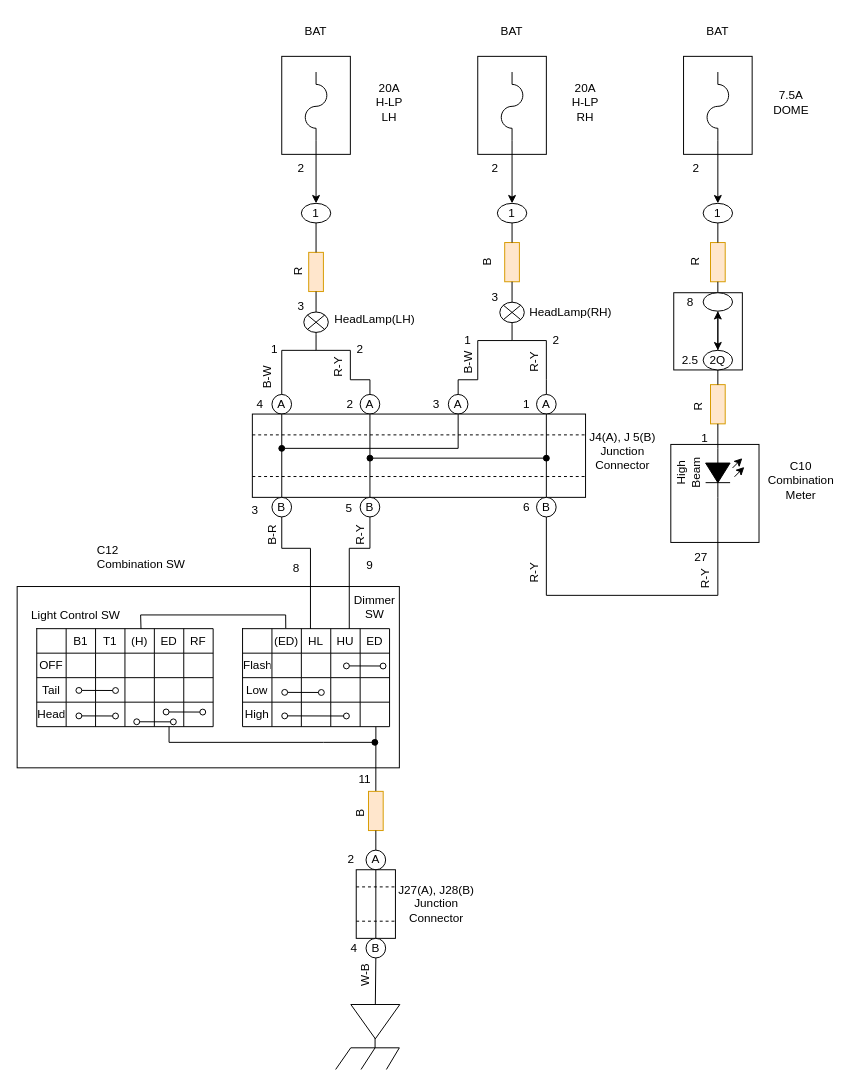
Image size: 851x1087. Some labels were removed from this diagram. The shapes that lost their labels are listed below. From the top down, each one's centre as x and y in pixels, then its label:
At point (717, 301): "2J".
At point (375, 1021): "IH".
